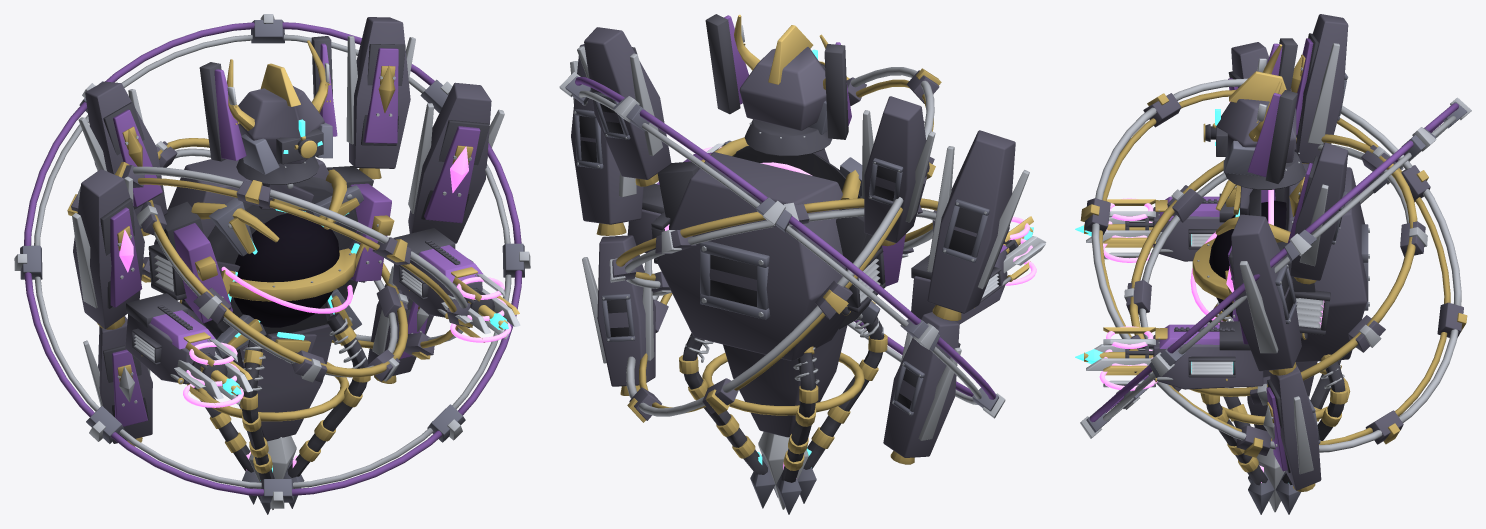
File: transcendent_omega.glb
3 views of the same model, side by side, from view 1: azimuth 30°, elevation 25°; view 2: azimuth 150°, elevation 25°; view 3: azimuth 270°, elevation 25° (orthographic). The views are drawn at different scales.
Visible parts, largest first — view 1: BodyGroup_ArmorAlloy, OrbitRing_2_ArmorAlloy, HeadGroup_ArmorAlloy, WingShieldFin_L_ArmorAlloy, Shoulder_MissileCitadel_L_ArmorAlloy, WingShieldFin_R_ArmorAlloy, OrbitRing_1_ArmorAlloy, CoreShutter_ArmorAlloy, OrbitRing_0_ArmorAlloy, CannonSlide_R_ArmorAlloy, Shoulder_MissileCitadel_R_ArmorAlloy, CannonSlide_L_ArmorAlloy (+5 smaller); view 2: BodyGroup_ArmorAlloy, HeadGroup_ArmorAlloy, WingShieldFin_R_ArmorAlloy, OrbitRing_2_ArmorAlloy, OrbitRing_1_ArmorAlloy, Shoulder_MissileCitadel_L_ArmorAlloy, Shoulder_MissileCitadel_R_ArmorAlloy, Stabilizer_R_ArmorAlloy, Stabilizer_L_ArmorAlloy, OrbitRing_0_ArmorAlloy, WingShieldFin_L_ArmorAlloy, CannonSlide_R_ArmorAlloy (+3 smaller); view 3: BodyGroup_ArmorAlloy, OrbitRing_1_ArmorAlloy, HeadGroup_ArmorAlloy, OrbitRing_0_ArmorAlloy, WingShieldFin_L_ArmorAlloy, CannonSlide_L_ArmorAlloy, OrbitRing_2_ArmorAlloy, Shoulder_MissileCitadel_R_ArmorAlloy, Stabilizer_L_ArmorAlloy, Shoulder_MissileCitadel_L_ArmorAlloy, CannonSlide_R_ArmorAlloy, WingShieldFin_R_ArmorAlloy (+3 smaller).
Boxes of the visible parts, bbox=[...] form: BodyGroup_ArmorAlloy: bbox=[148, 158, 394, 514]; OrbitRing_2_ArmorAlloy: bbox=[14, 14, 530, 508]; HeadGroup_ArmorAlloy: bbox=[199, 36, 337, 184]; WingShieldFin_L_ArmorAlloy: bbox=[408, 82, 504, 243]; Shoulder_MissileCitadel_L_ArmorAlloy: bbox=[346, 17, 415, 179]; WingShieldFin_R_ArmorAlloy: bbox=[72, 169, 144, 329]; OrbitRing_1_ArmorAlloy: bbox=[67, 162, 472, 359]; CoreShutter_ArmorAlloy: bbox=[205, 176, 371, 363]; OrbitRing_0_ArmorAlloy: bbox=[136, 138, 408, 382]; CannonSlide_R_ArmorAlloy: bbox=[125, 293, 252, 407]; Shoulder_MissileCitadel_R_ArmorAlloy: bbox=[78, 81, 167, 236]; CannonSlide_L_ArmorAlloy: bbox=[392, 228, 520, 342]; BodyGroup_ArmorAlloy: bbox=[651, 137, 905, 514]; HeadGroup_ArmorAlloy: bbox=[705, 14, 851, 156]; WingShieldFin_R_ArmorAlloy: bbox=[927, 130, 1029, 320]; OrbitRing_2_ArmorAlloy: bbox=[559, 72, 1005, 418]; OrbitRing_1_ArmorAlloy: bbox=[626, 67, 941, 422]; Shoulder_MissileCitadel_L_ArmorAlloy: bbox=[577, 27, 671, 186]; Shoulder_MissileCitadel_R_ArmorAlloy: bbox=[861, 96, 935, 246]; Stabilizer_R_ArmorAlloy: bbox=[883, 312, 961, 464]; Stabilizer_L_ArmorAlloy: bbox=[582, 235, 655, 395]; OrbitRing_0_ArmorAlloy: bbox=[609, 198, 938, 295]; WingShieldFin_L_ArmorAlloy: bbox=[570, 44, 643, 235]; CannonSlide_R_ArmorAlloy: bbox=[911, 216, 1046, 324]; BodyGroup_ArmorAlloy: bbox=[1192, 163, 1369, 514]; OrbitRing_1_ArmorAlloy: bbox=[1080, 78, 1467, 457]; HeadGroup_ArmorAlloy: bbox=[1203, 38, 1305, 189]; OrbitRing_0_ArmorAlloy: bbox=[1124, 134, 1427, 405]; WingShieldFin_L_ArmorAlloy: bbox=[1228, 214, 1301, 375]; CannonSlide_L_ArmorAlloy: bbox=[1084, 321, 1263, 389]; OrbitRing_2_ArmorAlloy: bbox=[1080, 97, 1471, 438]; Shoulder_MissileCitadel_R_ArmorAlloy: bbox=[1291, 14, 1348, 163]; Stabilizer_L_ArmorAlloy: bbox=[1263, 364, 1321, 491]; Shoulder_MissileCitadel_L_ArmorAlloy: bbox=[1287, 142, 1348, 284]; CannonSlide_R_ArmorAlloy: bbox=[1084, 193, 1233, 261]; WingShieldFin_R_ArmorAlloy: bbox=[1228, 42, 1268, 90].
Bounding box in the file's own units: 4.97 × 5.04 × 4.04.
